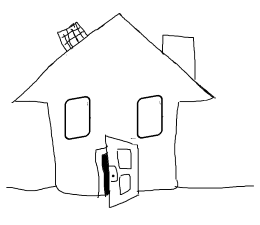chimney: (157, 29, 204, 82), (47, 19, 90, 50)
door: (85, 136, 151, 214)
open_window: (57, 95, 97, 142), (131, 94, 165, 139)
single_line_roof: (5, 9, 231, 106)
wall: (41, 103, 183, 198)
